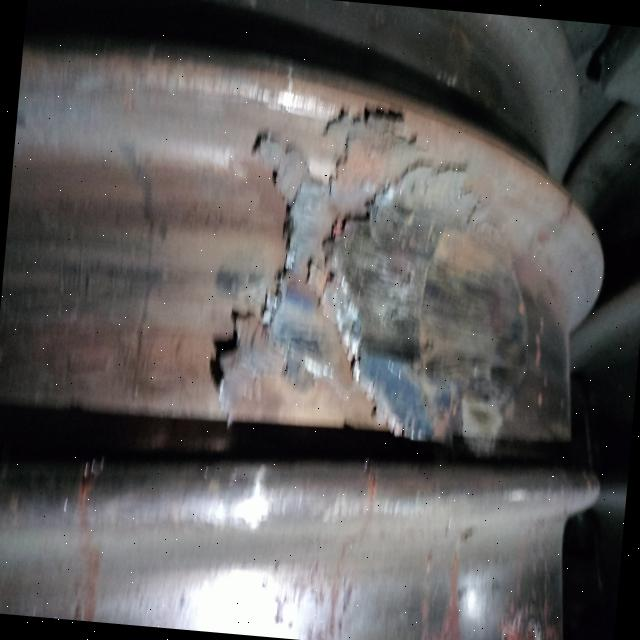Rollerpile: (193, 108, 576, 495)
flat: (397, 233, 559, 422)
